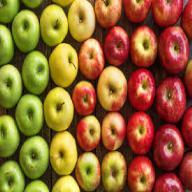apple: (44, 86, 74, 132), (158, 27, 190, 70), (96, 68, 126, 112), (154, 123, 182, 167), (21, 47, 48, 91), (50, 46, 78, 88), (100, 27, 130, 66), (18, 138, 48, 176), (156, 76, 183, 118), (128, 68, 156, 108), (130, 25, 156, 68), (50, 131, 76, 172), (12, 10, 38, 50), (100, 110, 126, 150), (128, 113, 154, 150), (80, 38, 104, 78), (68, 1, 94, 36), (16, 96, 41, 132), (75, 152, 100, 188), (127, 157, 154, 190), (74, 78, 98, 114), (102, 152, 126, 188), (42, 6, 66, 41), (76, 117, 101, 149), (1, 160, 25, 190), (124, 2, 150, 24), (156, 172, 181, 191)
